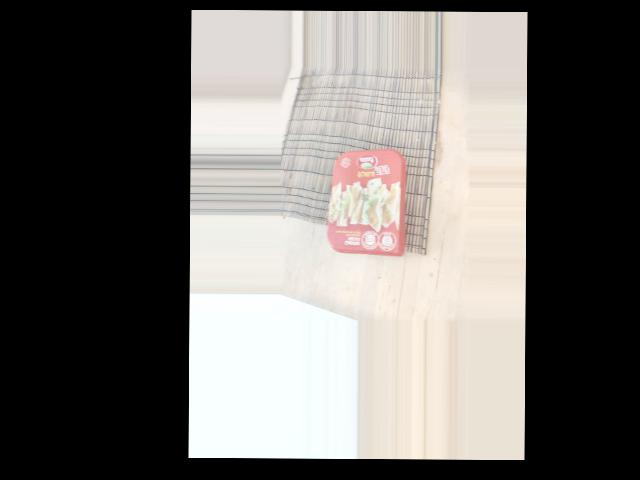cheese: (335, 147, 410, 264)
